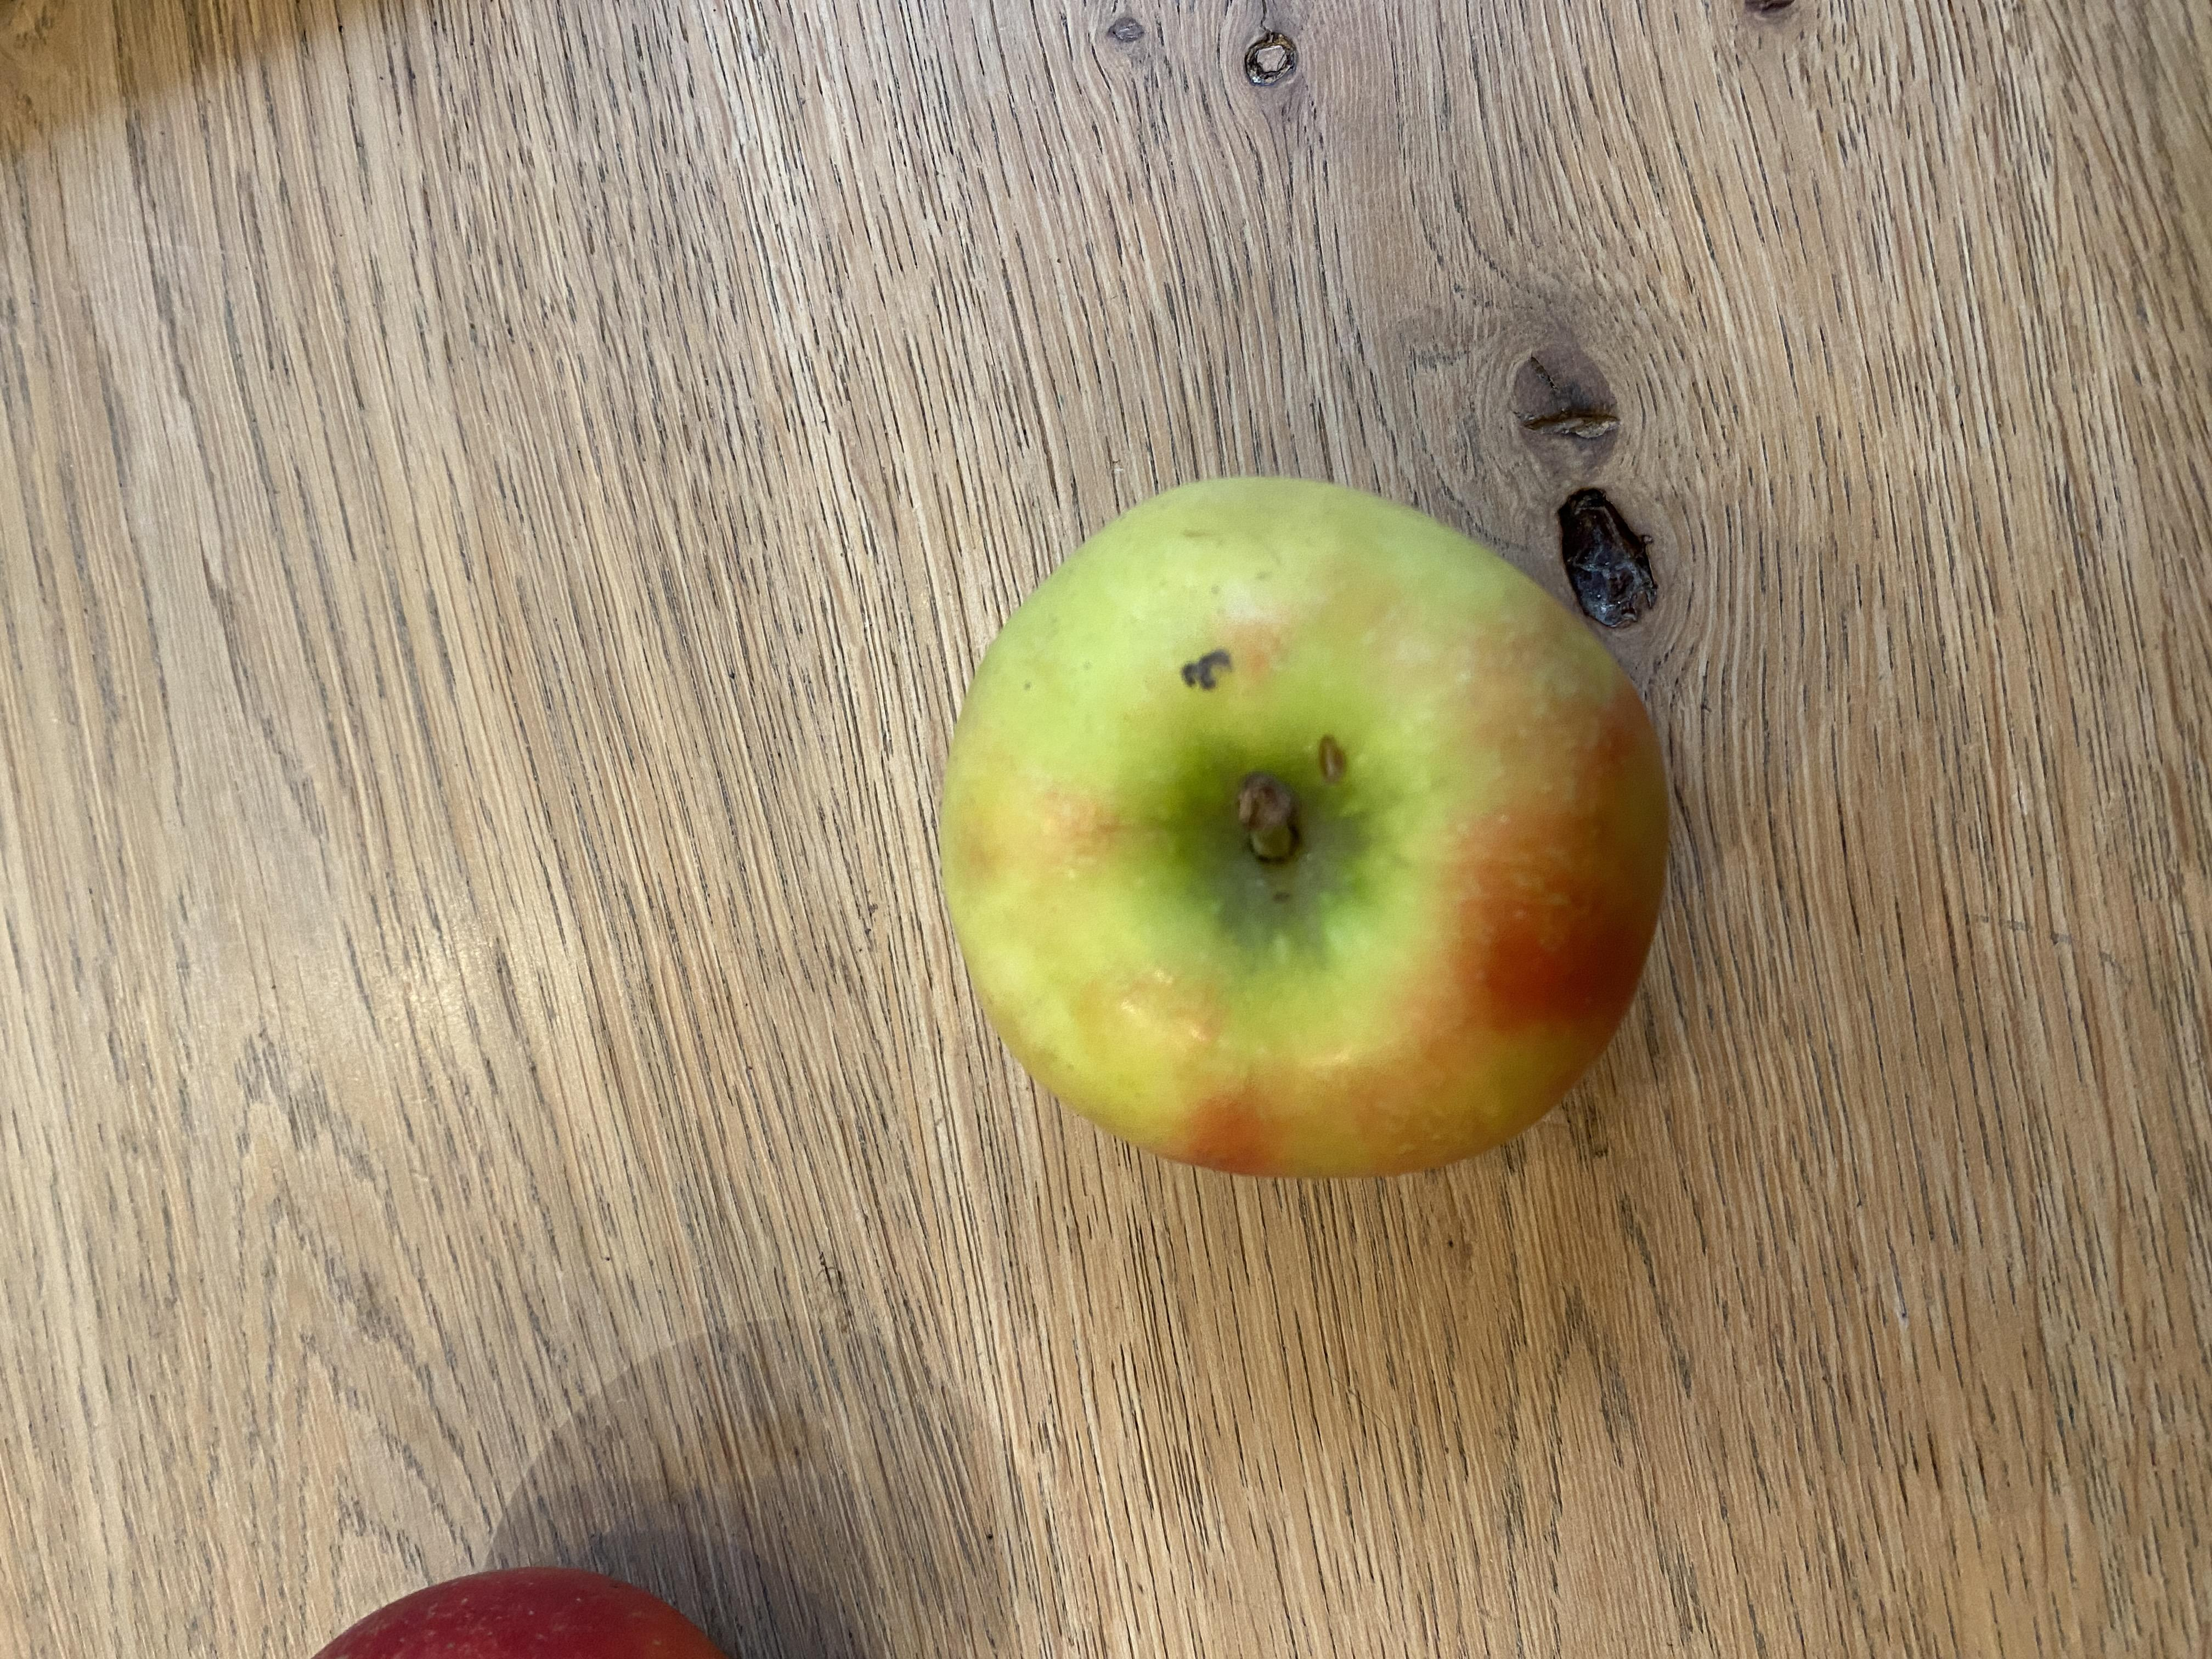Apple: (610, 688, 1611, 1265)
